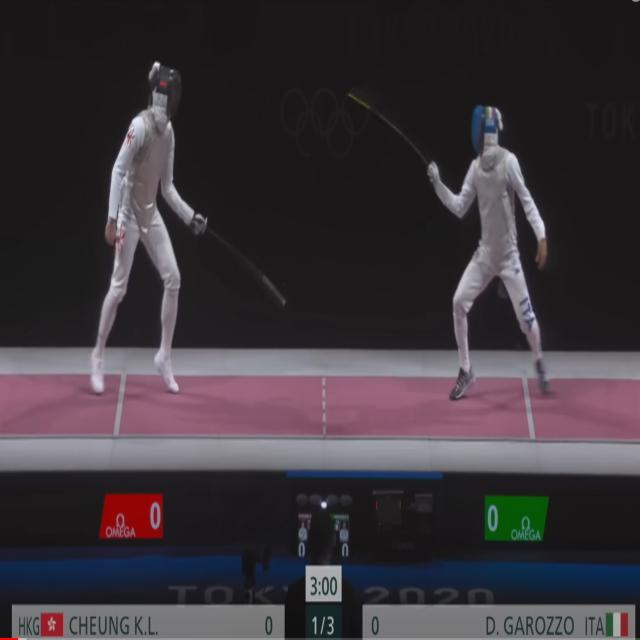fencer: (86, 65, 208, 408), (430, 97, 553, 410)
overlayLeft: (12, 605, 229, 639)
overlayRight: (415, 606, 636, 640)
scoreLeft: (231, 605, 285, 638)
scoreRight: (365, 603, 412, 640)
